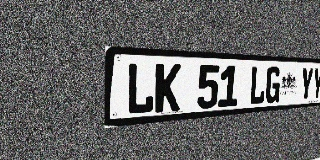1: (218, 65, 239, 107)
5: (197, 65, 220, 109)
G: (265, 67, 281, 104)
K: (155, 63, 181, 113)
L: (126, 63, 155, 115), (249, 66, 267, 105)
Y: (300, 68, 314, 101), (311, 68, 320, 100)
